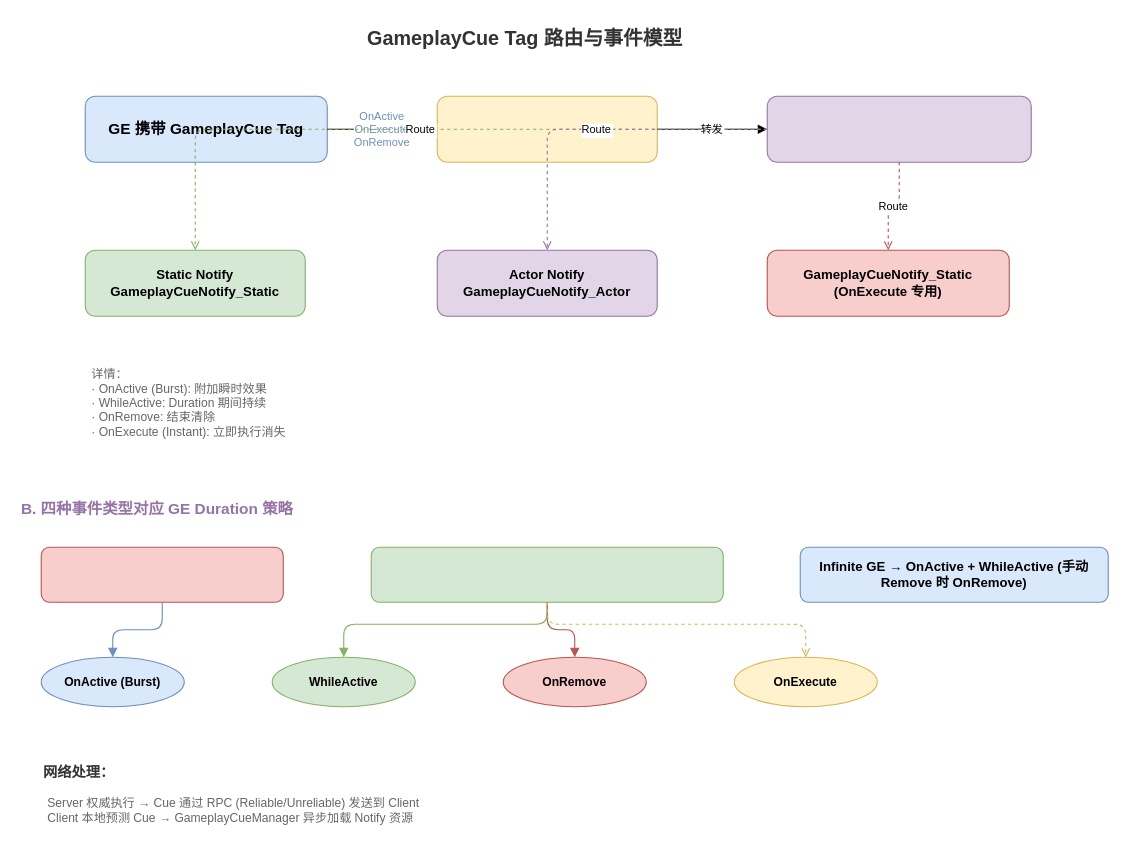
Image size: 1128x862. Some labels were removed from this diagram. The centre of each missing label's shape, as x and y in pixels:
"Duration GE → OnActive + WhileActive + OnRemove" belongs at [546,574].
"GameplayCueManager::HandleGameplayCue 路由表查找" belongs at [898,128].
"HandleGameplayCue RPC 分发函数" belongs at [546,128].
"Instant GE → OnExecute" belongs at [161,574].
